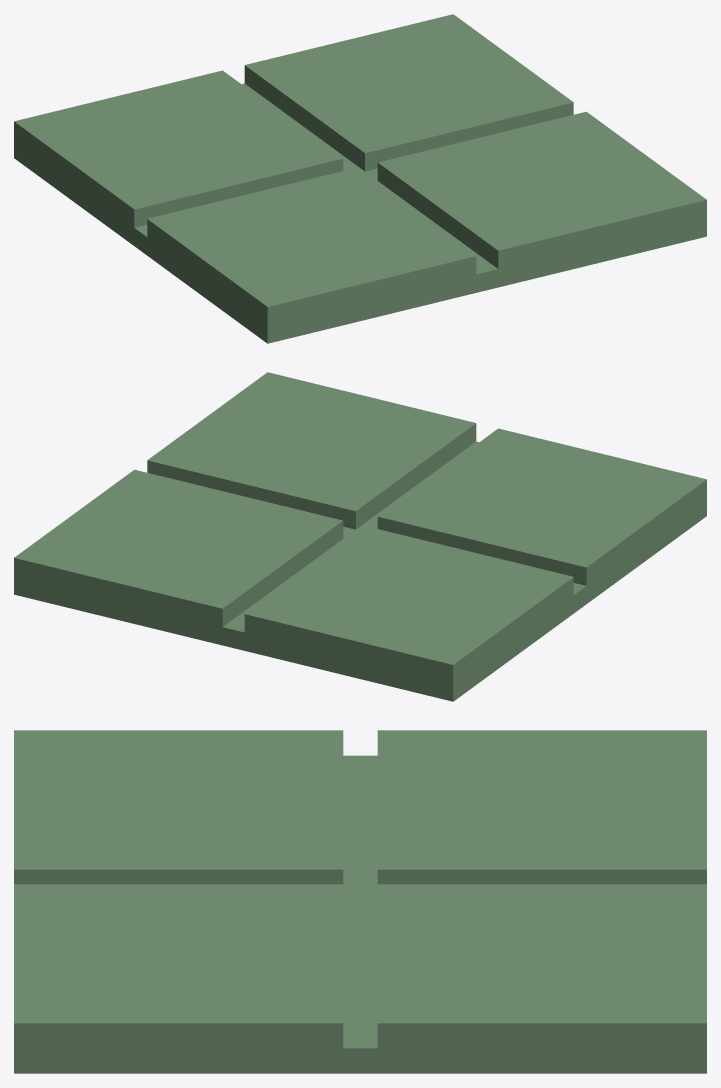
Rendered from grooved_tile.glb.
3 renders of one model, top to bottom at view 1: azimuth 30°, elevation 25°; view 2: azimuth 150°, elevation 25°; view 3: azimuth 270°, elevation 25°, orthographic. The views are drawn at different scales.
Parts seen in each view (by area): view 1: grooved_tile; view 2: grooved_tile; view 3: grooved_tile.
Boxes of the visible parts, x1,y1,x2,y2 form: grooved_tile: [14, 14, 706, 343]; grooved_tile: [14, 372, 706, 701]; grooved_tile: [14, 730, 706, 1073].
Bounding box in the file's own units: 1 × 0.08 × 1.
